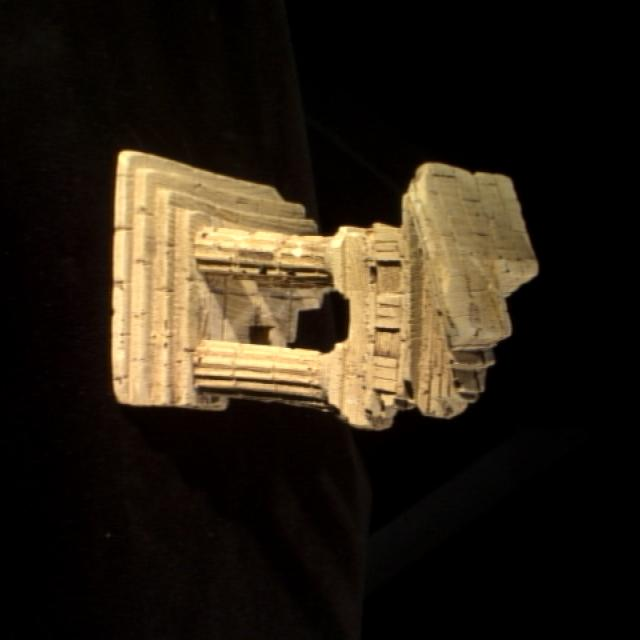Instance-Segmentation: (112, 151, 537, 429)
